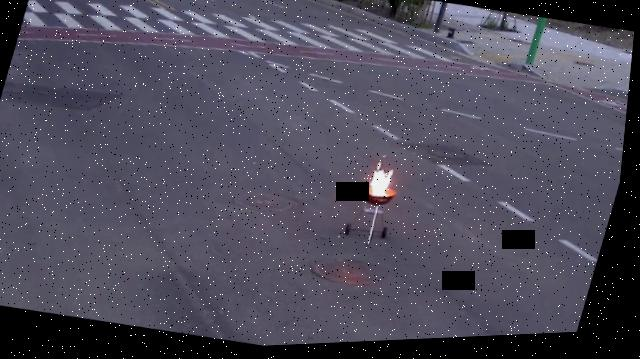fire: (370, 163, 402, 203)
